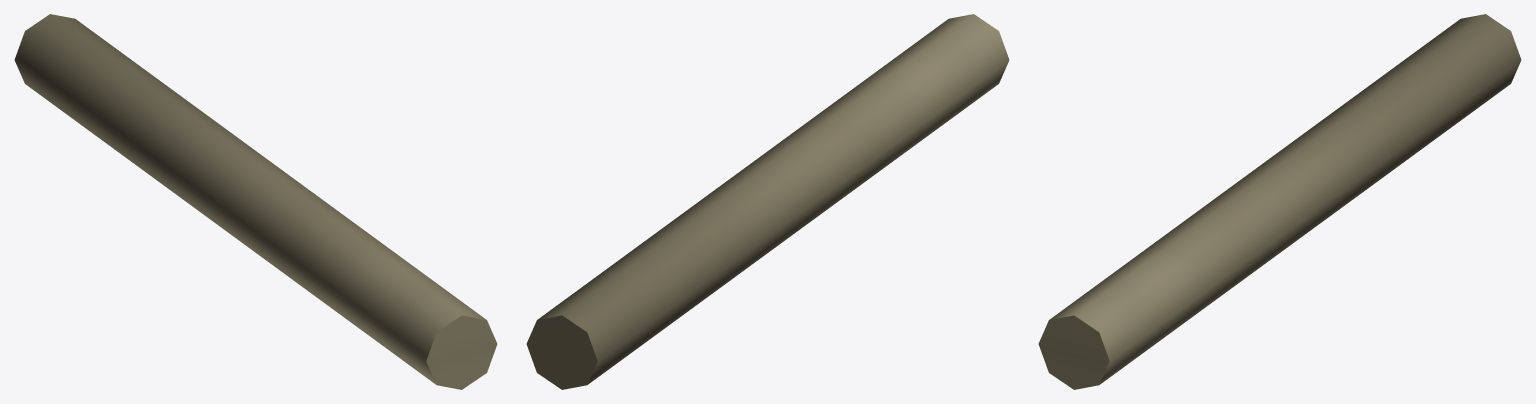
Rendered from octans_androgynous_docking_port_s0p5_1_piston_upper.obj.
3 views of the same model, side by side, from view 1: azimuth 30°, elevation 25°; view 2: azimuth 150°, elevation 25°; view 3: azimuth 330°, elevation 25° (orthographic).
Visible parts, largest first — view 1: piston; view 2: piston; view 3: piston.
Part boxes in pixels (x1,y1,x2,y2): piston: [14, 14, 497, 389]; piston: [526, 14, 1009, 389]; piston: [1038, 14, 1521, 389].
Size of the model in its own units: 0.0125 by 0.0125 by 0.125.
Materials: 1 (1 with a texture image).
